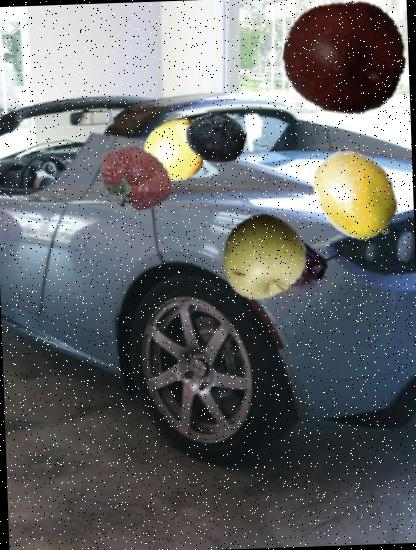Apple: (219, 212, 312, 306)
Blueberry: (184, 106, 246, 169)
Dates: (224, 203, 329, 308)
Maracuja: (307, 146, 406, 246)
Nectarine: (281, 0, 407, 120)
Quince: (141, 111, 216, 185)
Strawberry: (93, 138, 176, 221)
